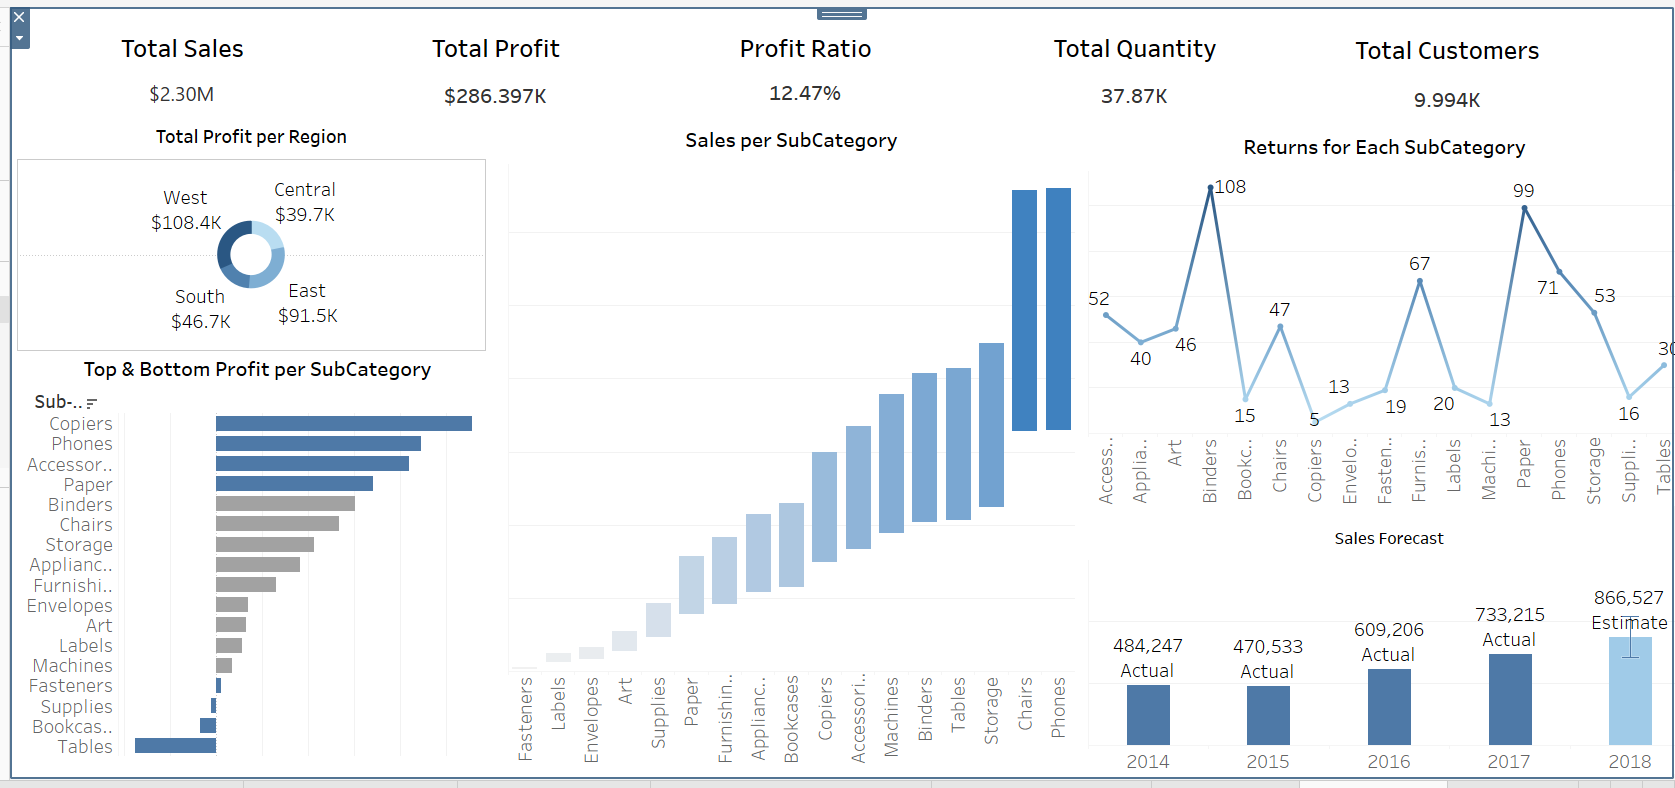

This screenshot's page, from the dashboard's own definition file:
{"tool":"tableau","page":{"name":"Dashboard 2","canvas":[1000,1000],"units":"permille","ordinal":1},"visuals":[{"type":"worksheet","title":"Total Sales","mark":"Automatic","box":[22.8,25.9,161.7,110.1]},{"type":"worksheet","title":"Total Profit","mark":"Automatic","box":[212.7,25.9,158.7,115.3]},{"type":"worksheet","title":"Profit Ratio","mark":"Automatic","box":[398.4,25.9,159.2,108.8]},{"type":"worksheet","title":"Quantity","mark":"Automatic","box":[596.1,25.9,159.9,115.3]},{"type":"worksheet","title":"Total Customers","mark":"Automatic","box":[786.7,28.5,154.5,121.8]},{"type":"worksheet","title":"Total Profit per Region","mark":"Pie","rows":["Calculation_866380027450413057","Calculation_866380027450413057"],"box":[4.2,145.1,281.9,300.5]},{"type":"worksheet","title":"Sales per Subcategory","mark":"GanttBar","rows":["Sales"],"cols":["Sub-Category"],"box":[299.3,147.7,340.8,834.2]},{"type":"worksheet","title":"Returns for Each SubCategory","mark":"Line","rows":["Returns_165D717511A440708784FB17572EBBC4"],"cols":["Sub-Category"],"box":[647.8,156.7,356.4,489.6]},{"type":"worksheet","title":"Top & Bottom Profit","mark":"Automatic","rows":["Sub-Category"],"cols":["Profit"],"box":[9.6,444.3,278.2,525.9]}]}

Visuals, with their boxes on the dashboard's canvas, which has no fixed pixel size, in thousandths of its width and height (x1, y1, x2, y2). These are canvas units, not pixel positions in the 1675x788 screenshot, which may show the page scaled, cropped or inside an application window:
"Total Sales" worksheet: detection(23, 26, 184, 136)
"Total Profit" worksheet: detection(213, 26, 371, 141)
"Profit Ratio" worksheet: detection(398, 26, 558, 135)
"Quantity" worksheet: detection(596, 26, 756, 141)
"Total Customers" worksheet: detection(787, 28, 941, 150)
"Total Profit per Region" worksheet (Pie marks): detection(4, 145, 286, 446)
"Sales per Subcategory" worksheet (GanttBar marks): detection(299, 148, 640, 982)
"Returns for Each SubCategory" worksheet (Line marks): detection(648, 157, 1004, 646)
"Top & Bottom Profit" worksheet: detection(10, 444, 288, 970)
